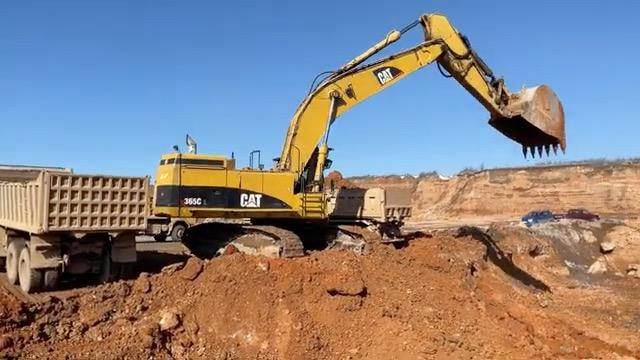excavator: (159, 10, 561, 223)
